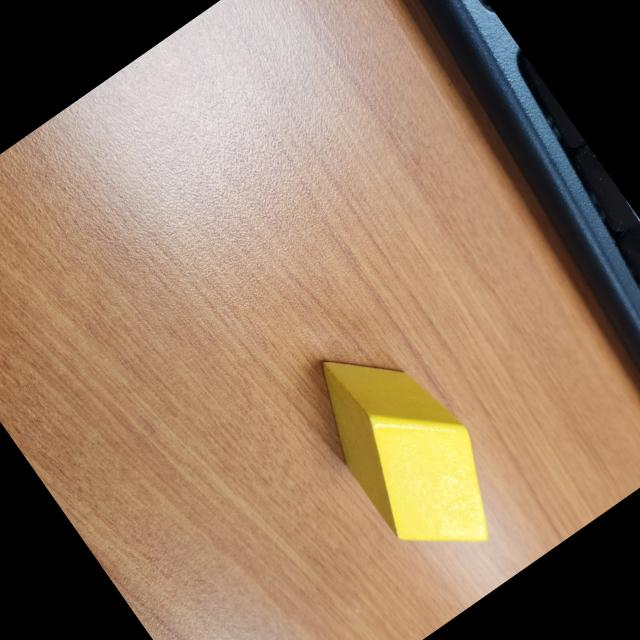yellow: (289, 314, 527, 582)
